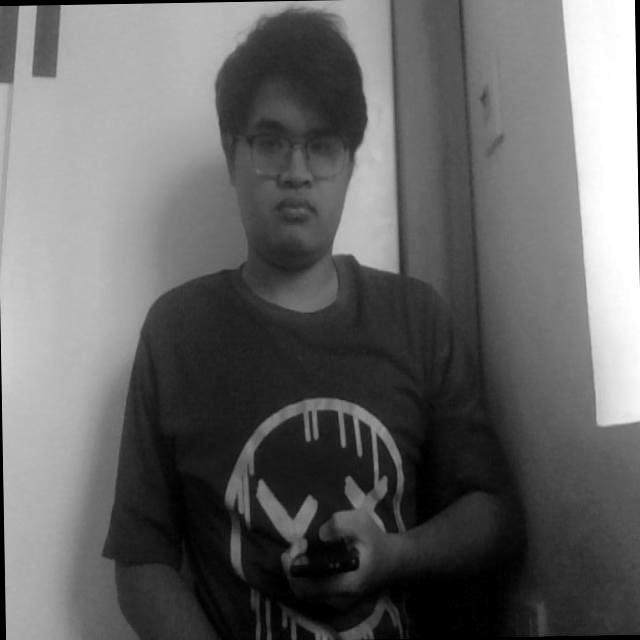phone: (276, 518, 372, 605)
